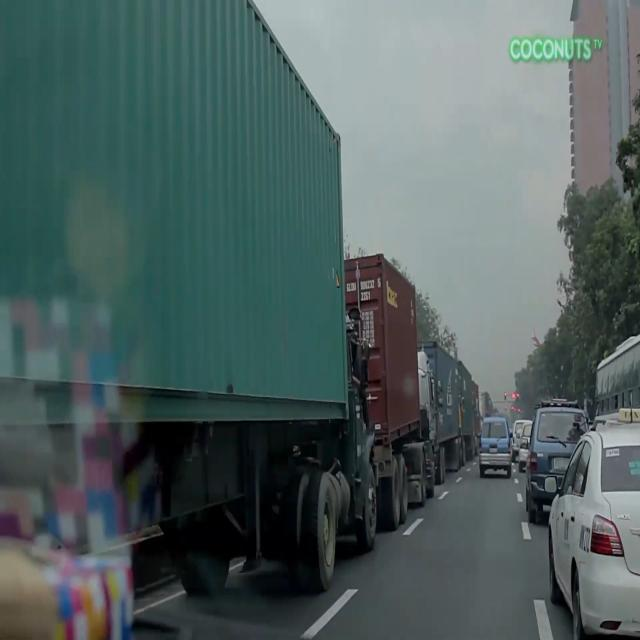bus: (591, 333, 640, 416)
truck: (0, 0, 378, 602), (346, 250, 436, 524), (417, 338, 465, 480), (454, 356, 476, 458)
